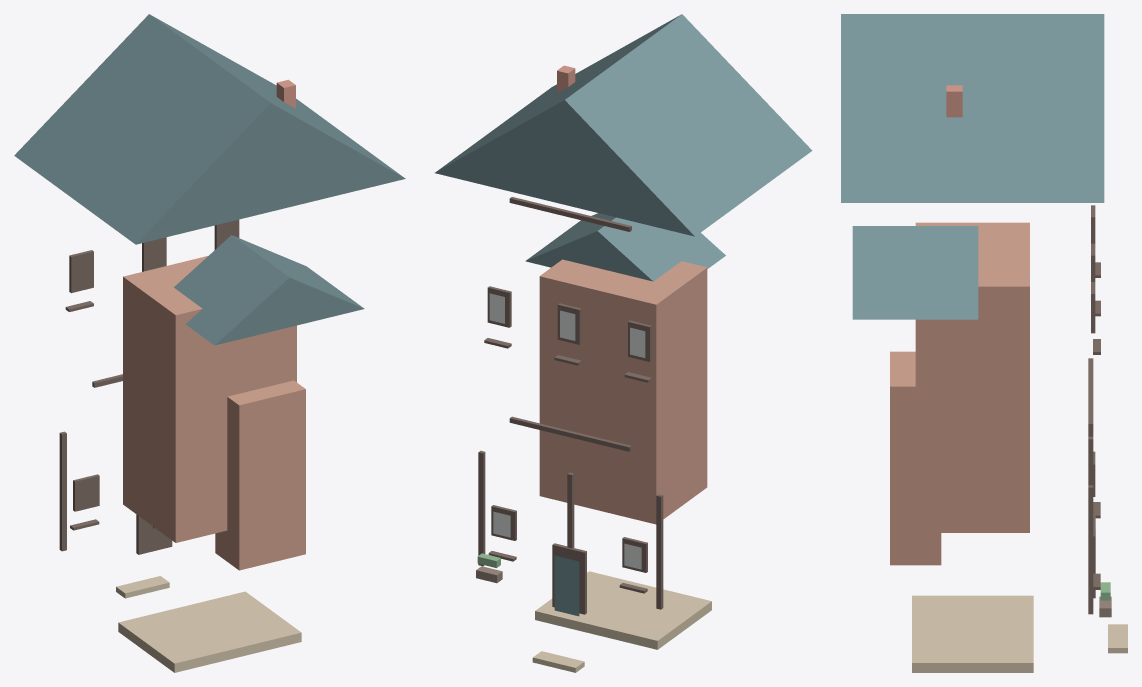
File: harbour-tidehouse-01.glb
The picture shows the model from 3 angles, left to right: view 1: azimuth 30°, elevation 25°; view 2: azimuth 150°, elevation 25°; view 3: azimuth 270°, elevation 25°; orthographic projection. The views are drawn at different scales.
Visible parts, largest first — view 1: roof, body, wing, wing_roof, plinth, uwf_1_-0.73, up_-0.93, door_frame, wf_-0.69, uwf_1_0.00, step; view 2: roof, body, wing_roof, plinth, door, door_frame, up_-0.93, beam_1, beam_2, up_0.93, step, up_0.00; view 3: roof, body, wing_roof, plinth, wing, up_0.93, step, chimney.
Boxes of the visible parts, box(x1,y1,x2,y2) form: roof: box(14, 14, 405, 244); body: box(123, 256, 296, 542); wing: box(215, 380, 305, 570); wing_roof: box(174, 235, 364, 345); plinth: box(118, 591, 301, 672); uwf_1_-0.73: box(69, 250, 93, 293); up_-0.93: box(59, 431, 66, 551); door_frame: box(136, 514, 172, 554); wf_-0.69: box(73, 474, 99, 511); uwf_1_0.00: box(142, 237, 166, 271); step: box(116, 576, 169, 598); roof: box(435, 14, 812, 236); body: box(539, 259, 707, 524); wing_roof: box(525, 213, 725, 281); plinth: box(535, 571, 711, 649); door: box(554, 555, 579, 616); door_frame: box(552, 543, 586, 614); up_-0.93: box(656, 494, 663, 609); beam_1: box(509, 416, 631, 451); beam_2: box(509, 197, 631, 231); up_0.93: box(478, 450, 485, 566); step: box(532, 651, 584, 672); up_0.00: box(567, 472, 574, 548); roof: box(841, 14, 1104, 202); body: box(915, 222, 1029, 532); wing_roof: box(852, 226, 978, 319); plinth: box(912, 595, 1033, 672); wing: box(890, 351, 941, 565); up_0.93: box(1088, 485, 1093, 614); step: box(1108, 624, 1127, 653); chimney: box(946, 85, 962, 117).
Size of the model in its own units: 2.73 by 5.61 by 2.32.
